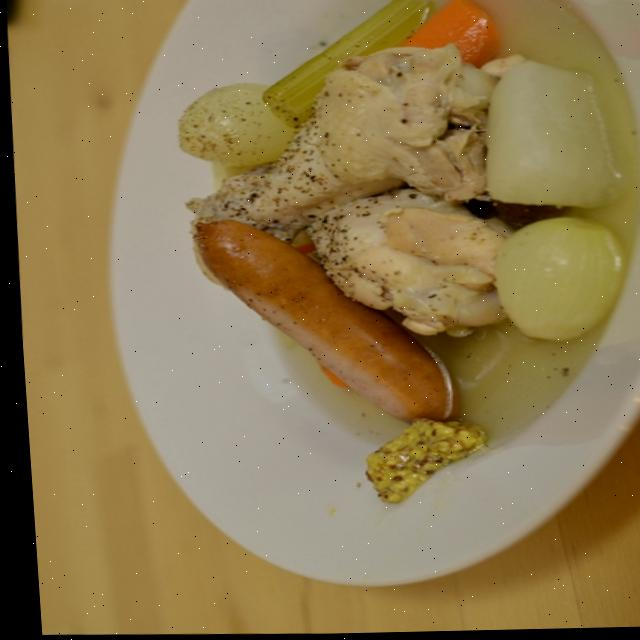汤锅炖物: (111, 0, 640, 555)
